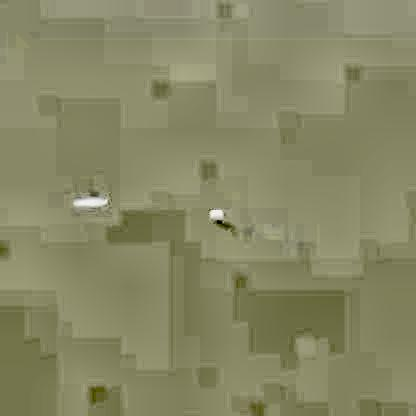golfball: (206, 205, 221, 220)
